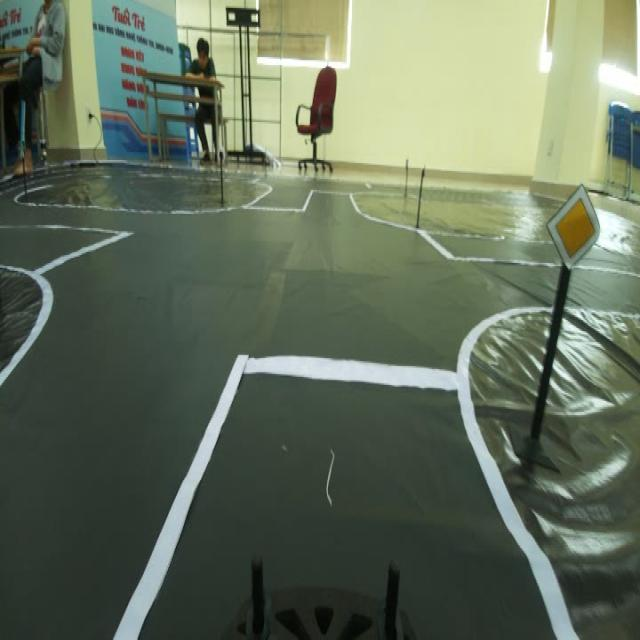priority: (547, 181, 606, 286)
